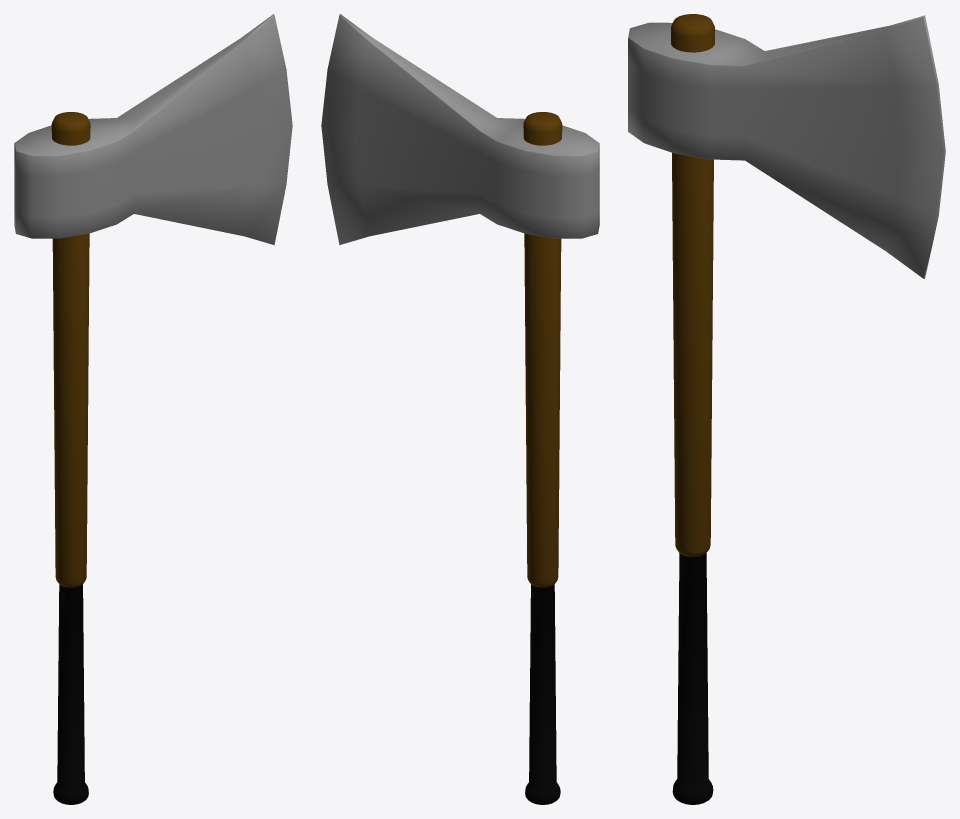
Rendered from OneHand_Axe_Iron.gltf.
The picture shows the model from 3 angles, left to right: view 1: azimuth 30°, elevation 25°; view 2: azimuth 150°, elevation 25°; view 3: azimuth 330°, elevation 25°; orthographic projection. The views are drawn at different scales.
Visible parts, largest first — view 1: Node1; view 2: Node1; view 3: Node1.
Boxes of the visible parts, left/top/right/bottom form: Node1: left=14, top=14, right=292, bottom=804; Node1: left=321, top=14, right=599, bottom=804; Node1: left=628, top=14, right=945, bottom=804.
Size of the model in its own units: 3.09 by 7.88 by 0.6954.
